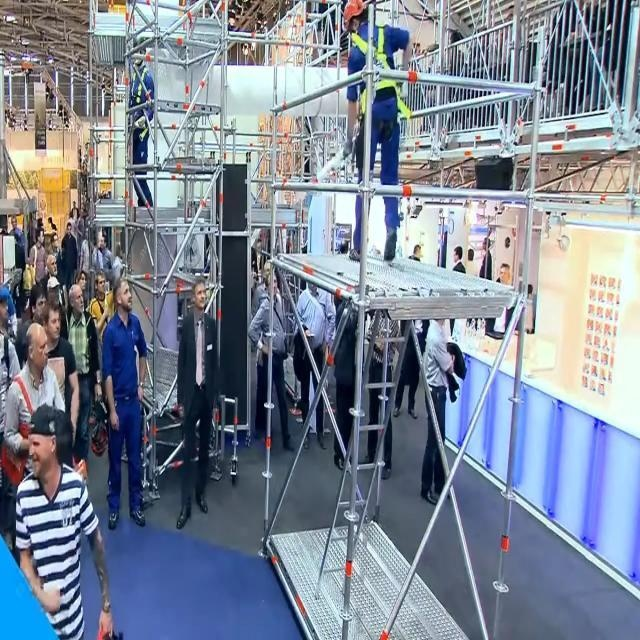Arnes_seguridad: (346, 20, 406, 146), (128, 64, 152, 145)
